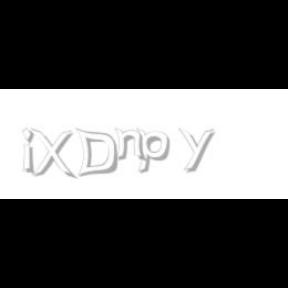D: (74, 128, 118, 178)
X: (30, 128, 74, 180)
i: (22, 128, 38, 176)
n: (114, 128, 148, 162)
p: (136, 128, 174, 174)
y: (178, 128, 218, 172)
